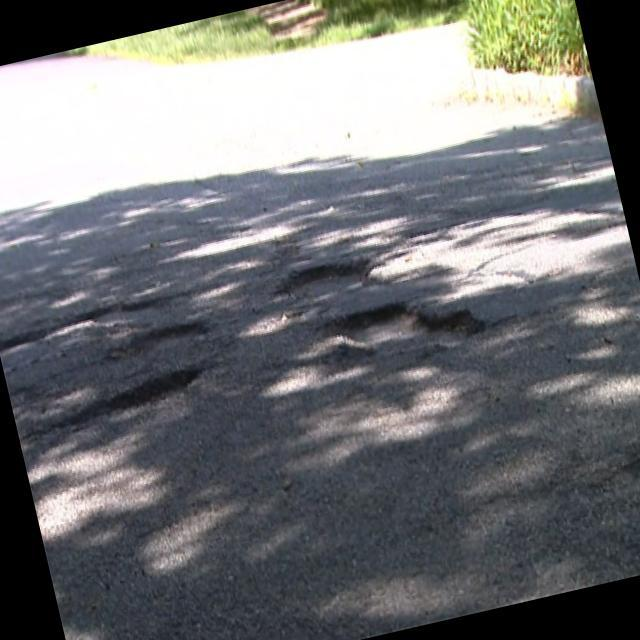Pothole: (55, 350, 206, 463), (318, 280, 462, 378), (0, 279, 154, 363), (270, 240, 378, 316), (128, 305, 208, 363)
